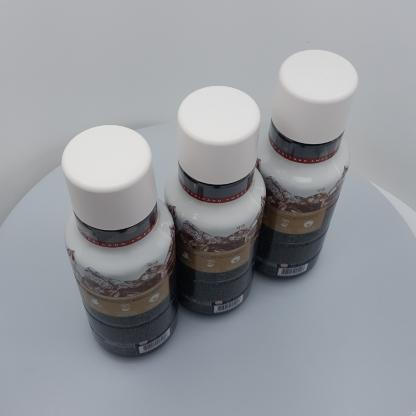--------------1-1L: (61, 125, 178, 357), (254, 49, 358, 279), (164, 86, 266, 316)
